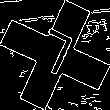L_SW: (30, 26, 80, 84)
